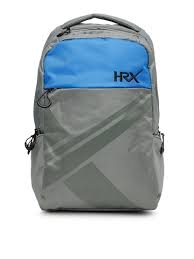backpack: (24, 12, 165, 212)
